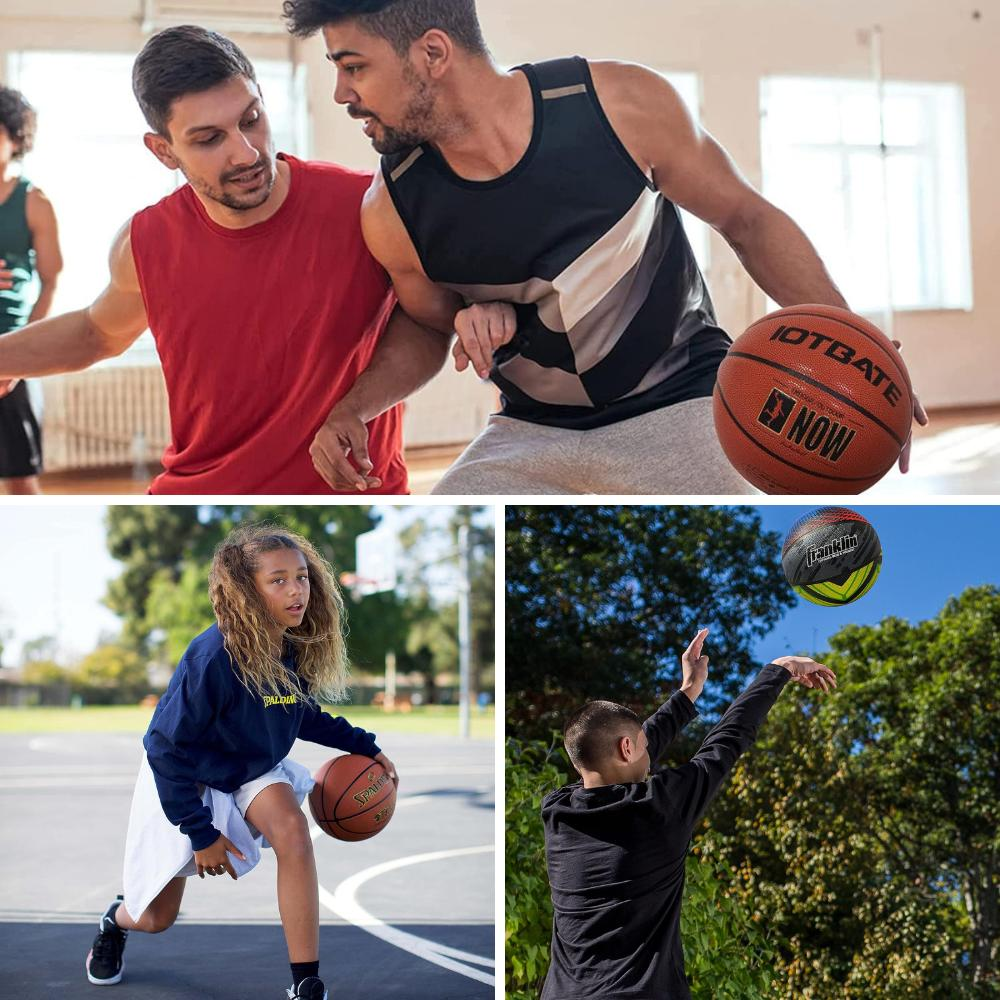basketball: (717, 297, 917, 496), (783, 510, 886, 609), (307, 751, 397, 841)
